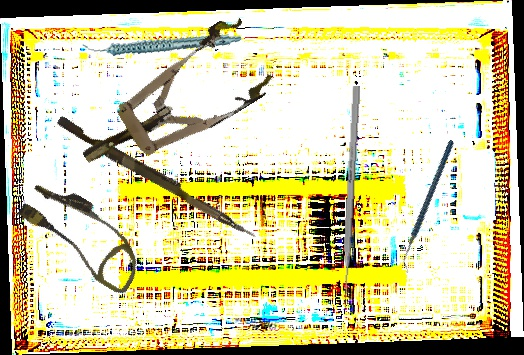Cannula: (9, 173, 156, 297)
Chopper: (365, 139, 493, 274)
Handpiece: (80, 10, 243, 77)
Pusher: (53, 115, 262, 241), (340, 85, 361, 313)
Speculum: (61, 11, 282, 194)
